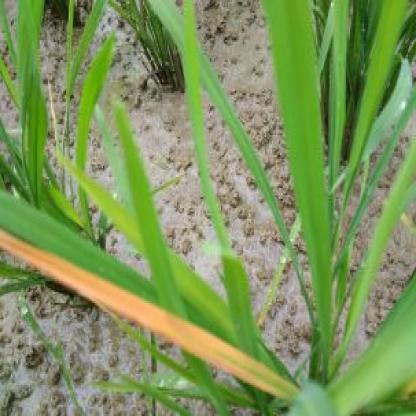Tungro: (2, 221, 281, 402)
